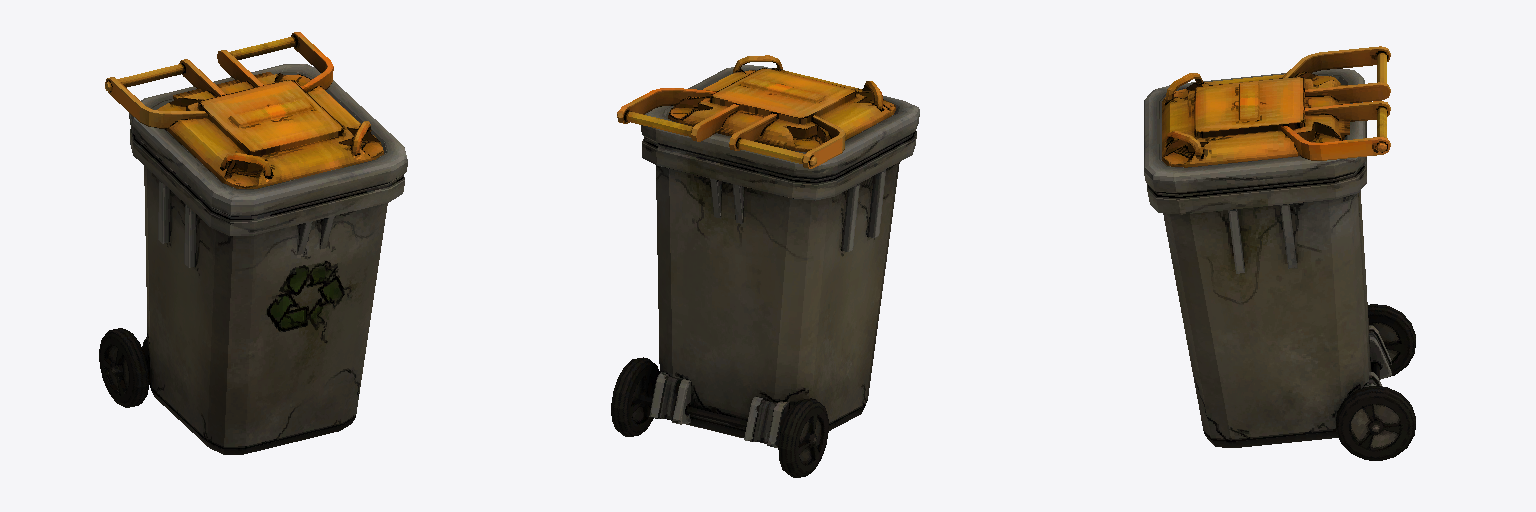
The picture shows the model from 3 angles: view 1: azimuth 30°, elevation 25°; view 2: azimuth 150°, elevation 25°; view 3: azimuth 270°, elevation 25°; orthographic projection.
Visible parts, largest first — view 1: TrashCan; view 2: TrashCan; view 3: TrashCan.
Part boxes in pixels (left/top/right/bottom): TrashCan: left=99, top=32, right=407, bottom=454; TrashCan: left=611, top=55, right=919, bottom=477; TrashCan: left=1144, top=46, right=1415, bottom=460.
Bounding box in the file's own units: 1.98 × 3.12 × 2.36.
1 materials, 1 textured.